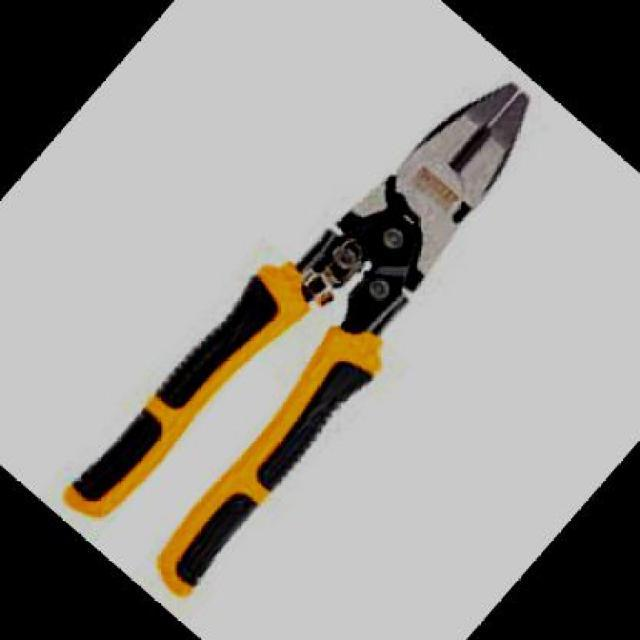pliers: (24, 6, 614, 632)
